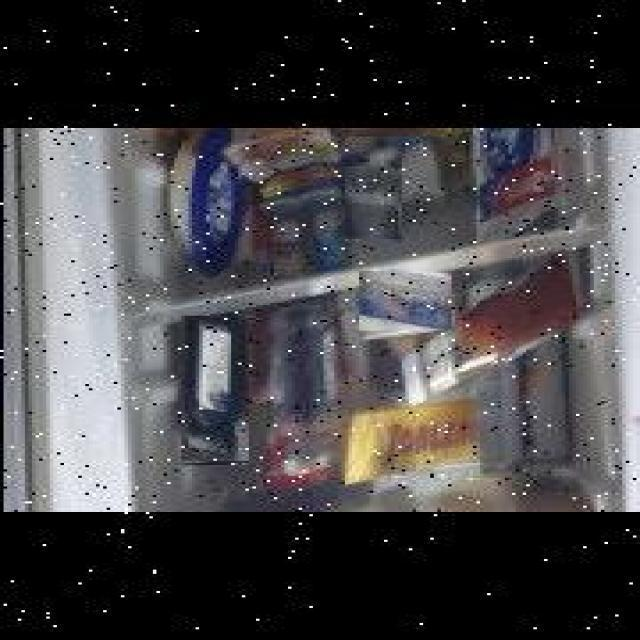cheese: (356, 271, 448, 331), (342, 166, 398, 239)
marmelade: (178, 316, 245, 463)
sausage: (327, 128, 448, 177)
